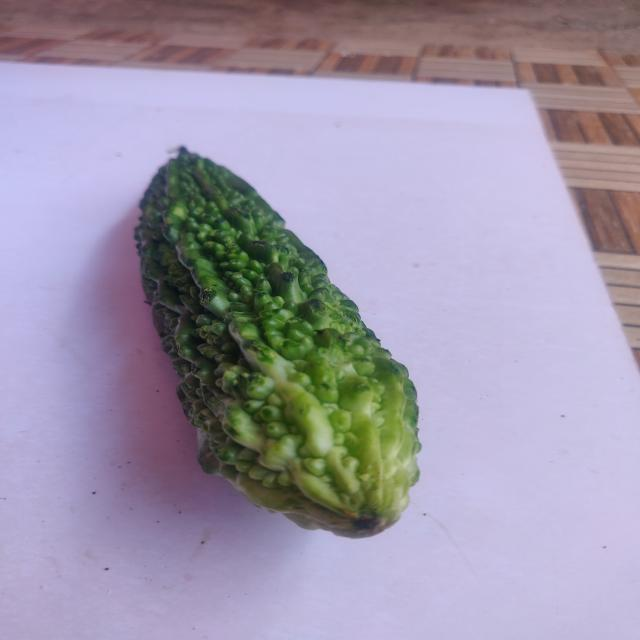Bitter Gourd: (113, 127, 450, 553)
